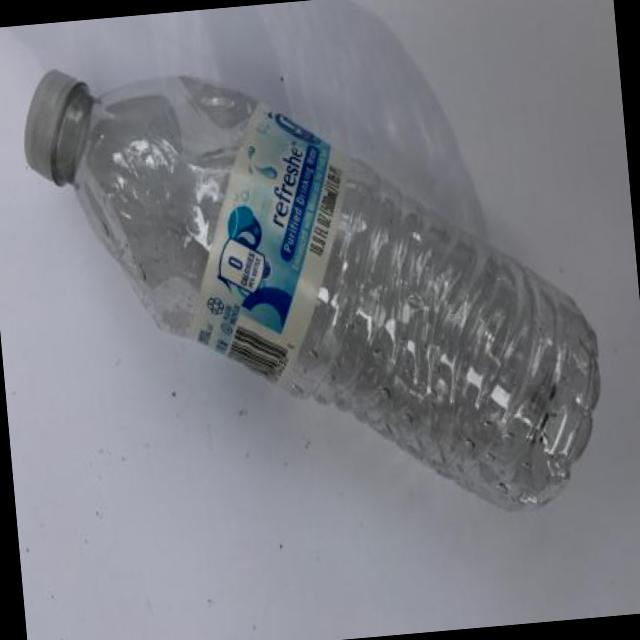Recycle: (14, 18, 615, 558)
